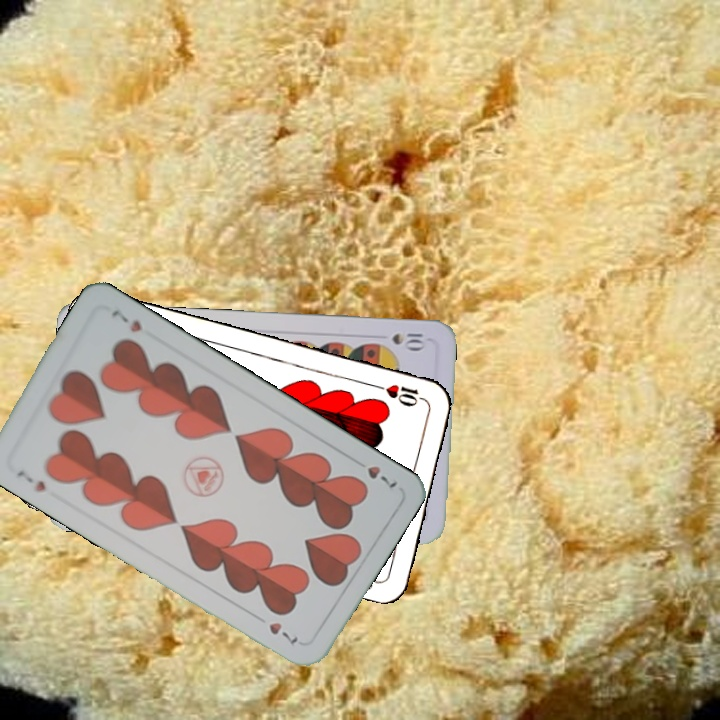H10: (371, 380, 429, 409)
H7: (362, 461, 400, 491), (12, 466, 49, 495)
S10: (388, 329, 427, 352)
